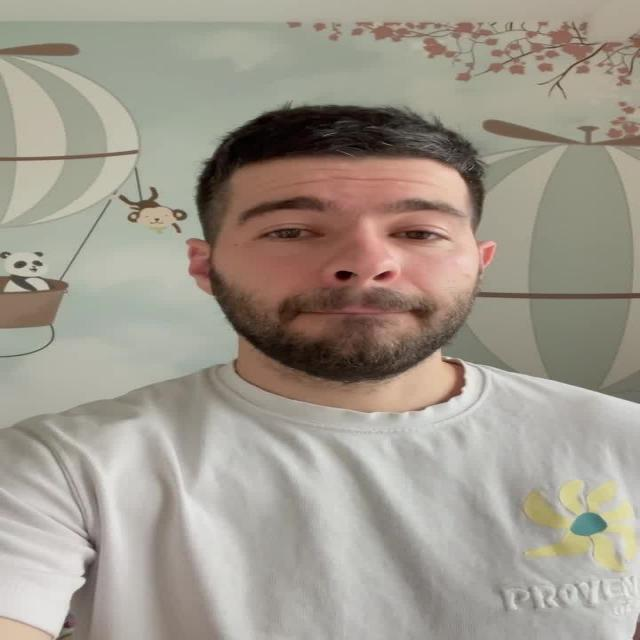earlobe: (194, 275, 215, 296)
eye: (391, 228, 446, 242), (259, 227, 321, 239)
nose: (328, 278, 397, 310)
wholeear: (184, 238, 215, 296), (474, 240, 498, 278)
